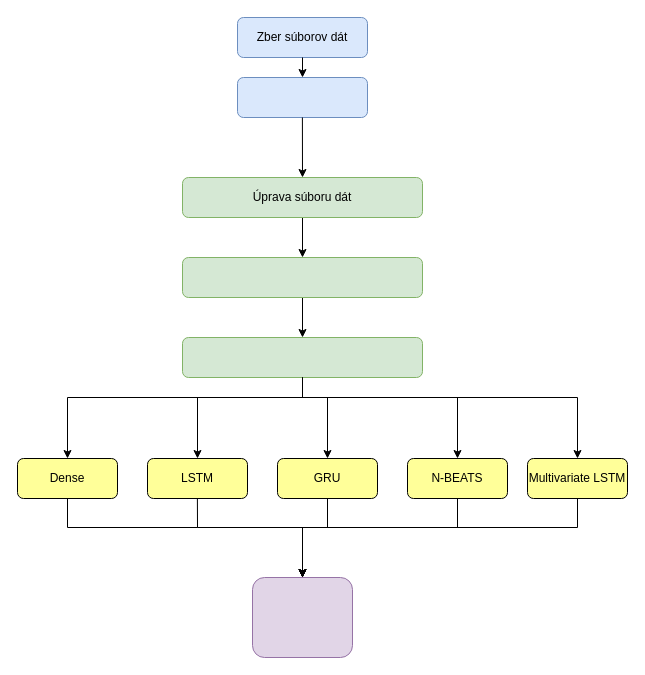
This 645x675 diagram has some shape labels left out. The centre of each missing label's shape, as x and y in pixels:
Imporovanie vhodných knižníc: the point at 302,97
Príprava dát na fázu trénovania: the point at 302,357
RMSE MSE MAE: the point at 302,617
Výber premennej, ktorú chceme predikovať a závislé premenné: the point at 302,277
